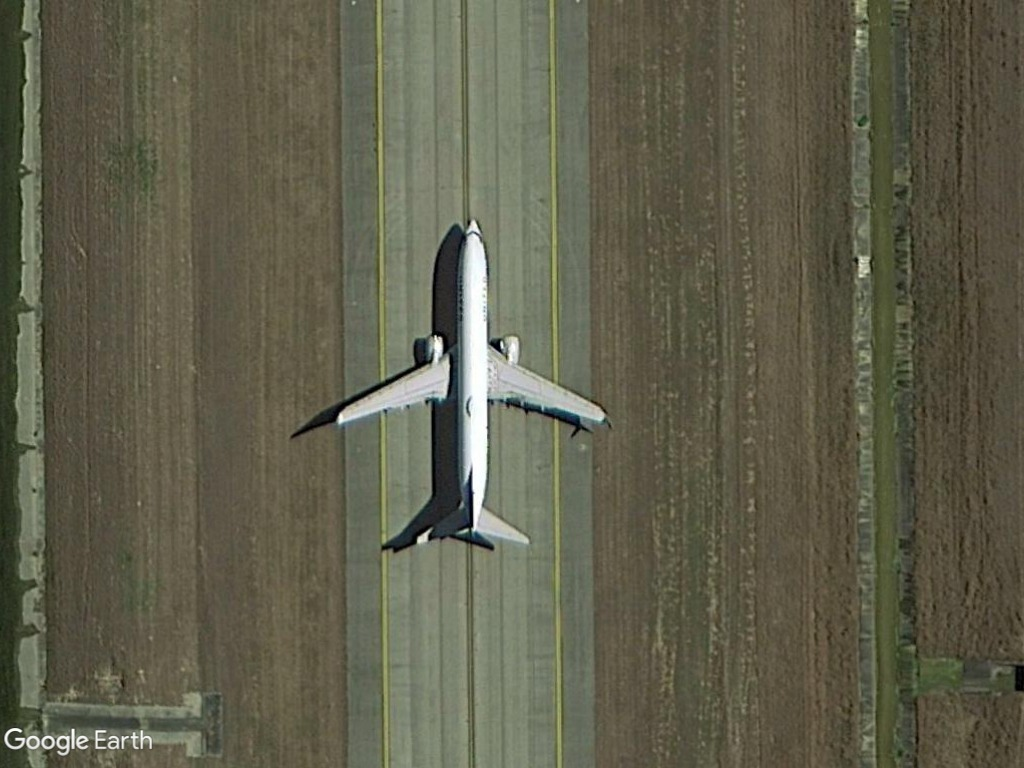airliner: (320, 211, 617, 555)
